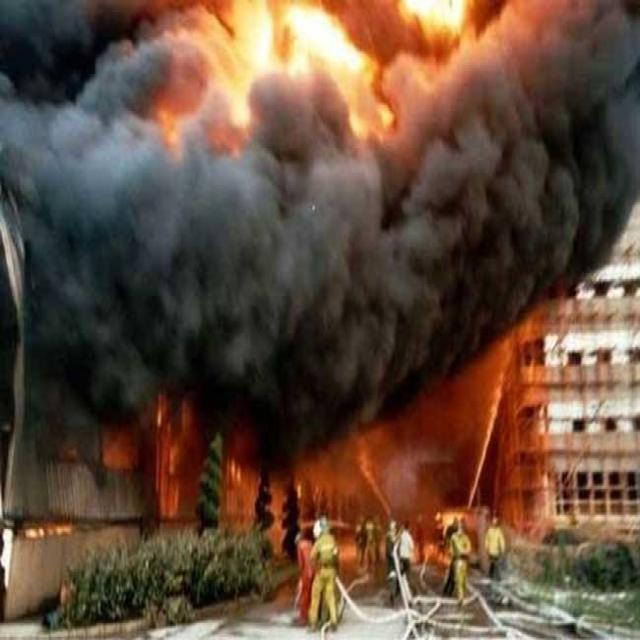smoke: (16, 1, 616, 431)
